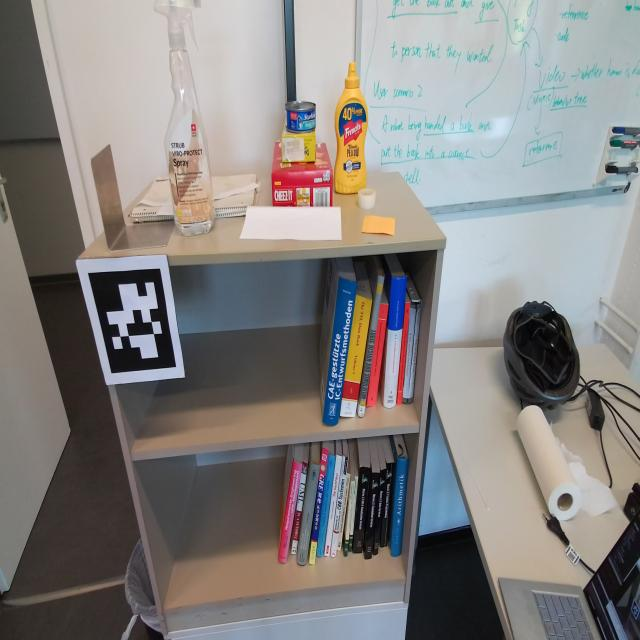Book Spine: (323, 276, 358, 426), (340, 295, 372, 417), (358, 273, 385, 417), (383, 276, 407, 408), (278, 459, 302, 563), (297, 460, 320, 565), (309, 448, 329, 565), (367, 304, 389, 406), (316, 454, 336, 557), (324, 454, 342, 557), (331, 455, 349, 558), (391, 457, 409, 557), (291, 461, 308, 554), (353, 467, 370, 554), (402, 304, 416, 404), (397, 303, 410, 405), (365, 472, 380, 559), (408, 303, 421, 403), (380, 463, 395, 548), (373, 468, 387, 556), (337, 473, 351, 551), (344, 480, 355, 557), (348, 475, 358, 552)
